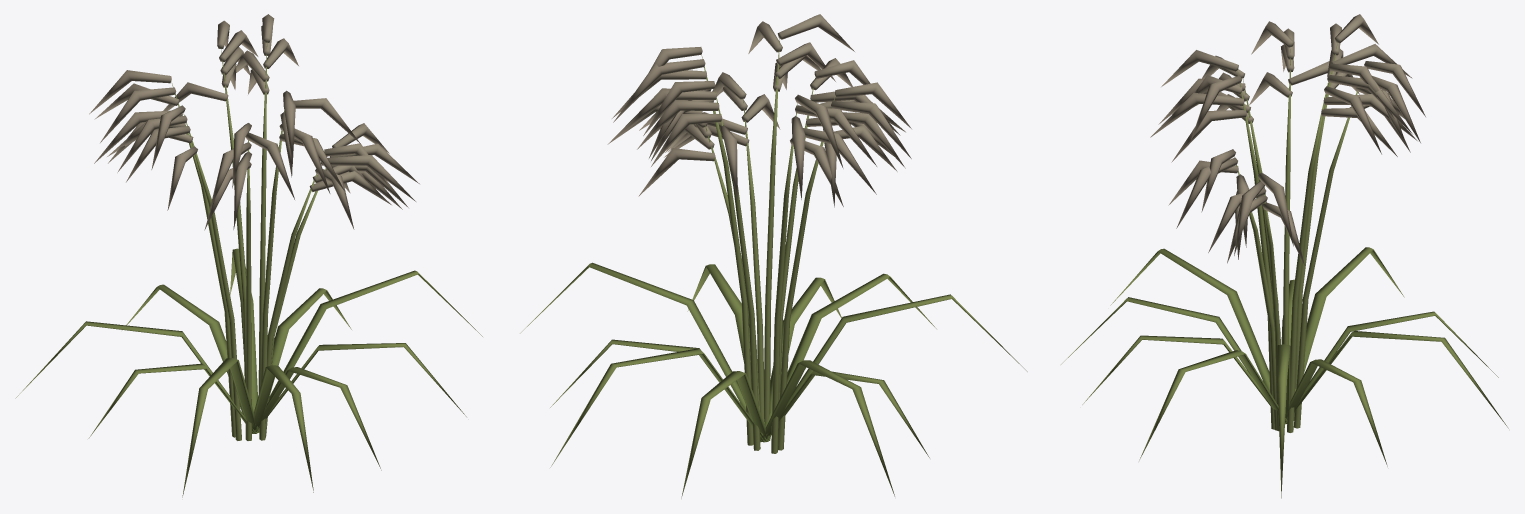
Rendered from Night_Susuki.fbx.
3 views of the same model, side by side, from view 1: azimuth 30°, elevation 25°; view 2: azimuth 150°, elevation 25°; view 3: azimuth 270°, elevation 25° (orthographic). The views are drawn at different scales.
Visible parts, largest first — view 1: Night_Susuki; view 2: Night_Susuki; view 3: Night_Susuki.
Part boxes in pixels (bbox=[...]): Night_Susuki: bbox=[15, 14, 482, 497]; Night_Susuki: bbox=[520, 14, 1027, 498]; Night_Susuki: bbox=[1061, 14, 1508, 498].
Size of the model in its own units: 9.76 by 8.63 by 9.1.
